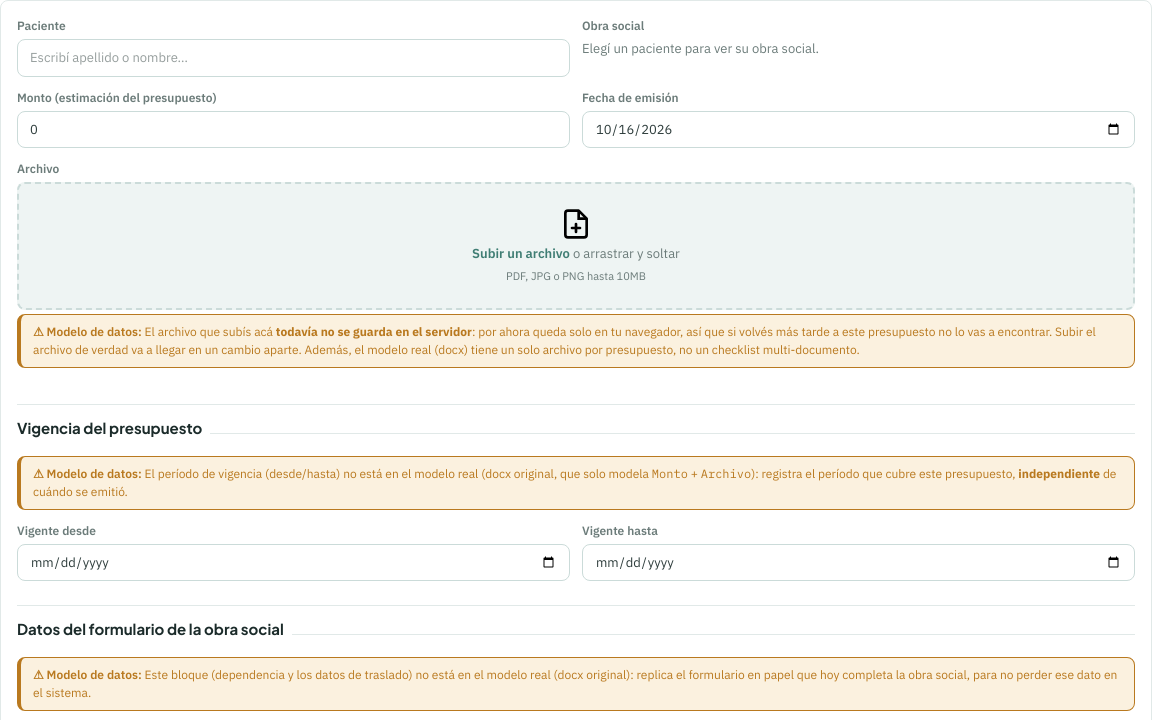
Test: PresupuestoForm › el selector de paciente ofrece las opciones inyectadas por PacienteRepository
Click the dropdown labelled "Paciente". click: [294, 58]
box: [17,39,570,76]
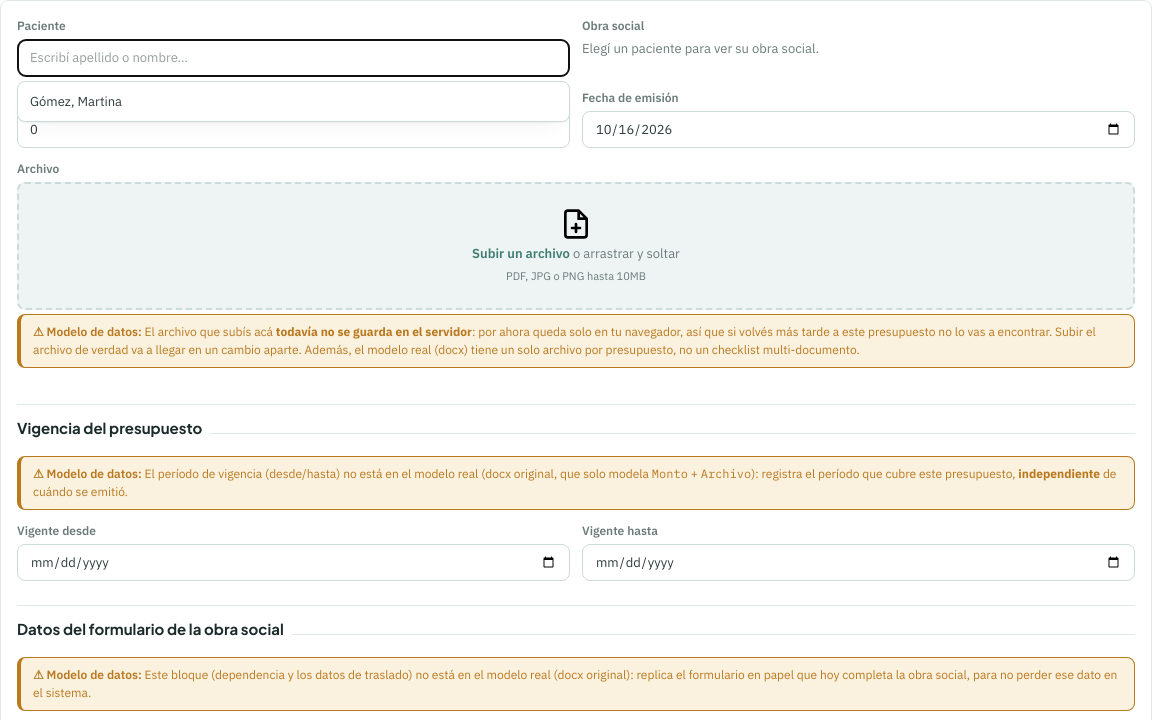
Check: the option "Gómez, Martina" is shown, box [30,92,122,110]
